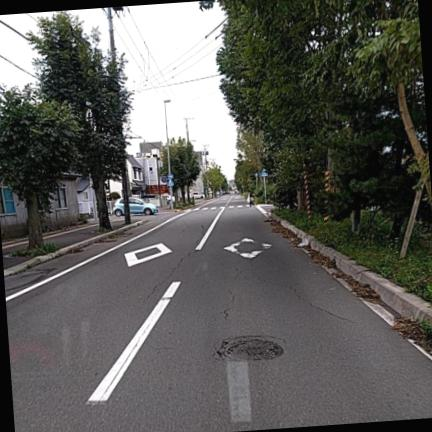Road: (4, 195, 431, 431)
